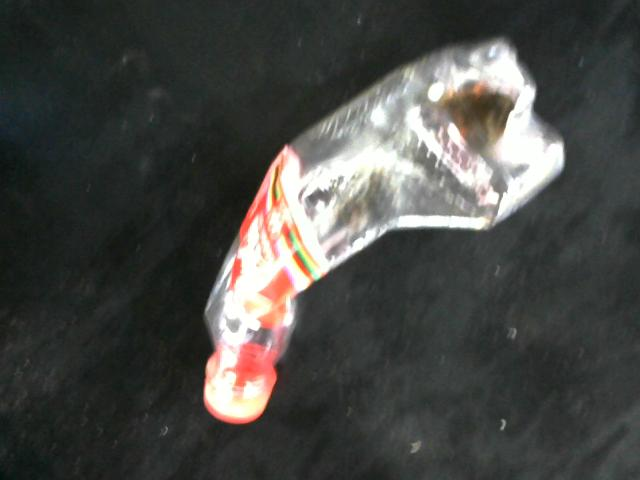bottle: (200, 34, 572, 426)
